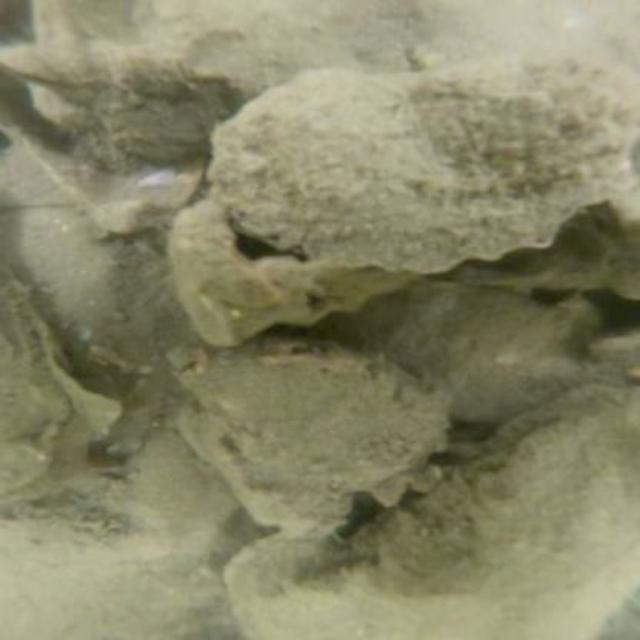Oyster-Closed: (228, 368, 638, 637), (206, 50, 638, 272), (185, 354, 441, 539), (325, 288, 571, 420)
Oyster-Open: (162, 183, 425, 353)
